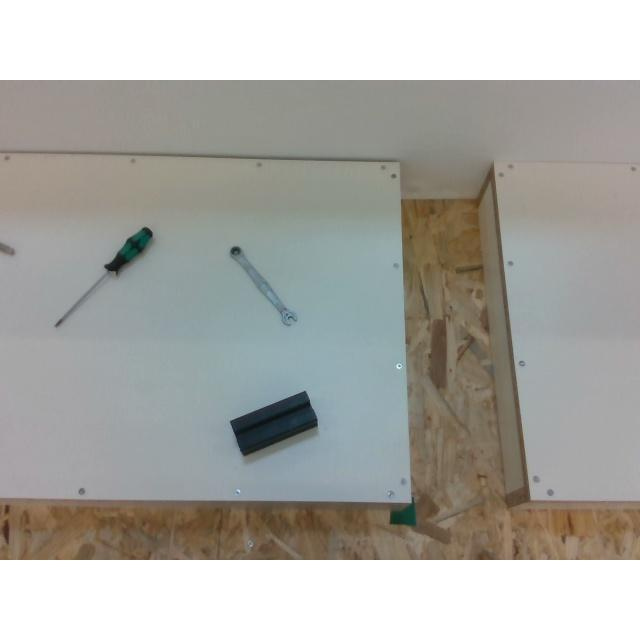S40_40_B: (230, 391, 318, 454)
Screwdriver: (54, 226, 154, 326)
Wrench: (229, 247, 297, 326)
